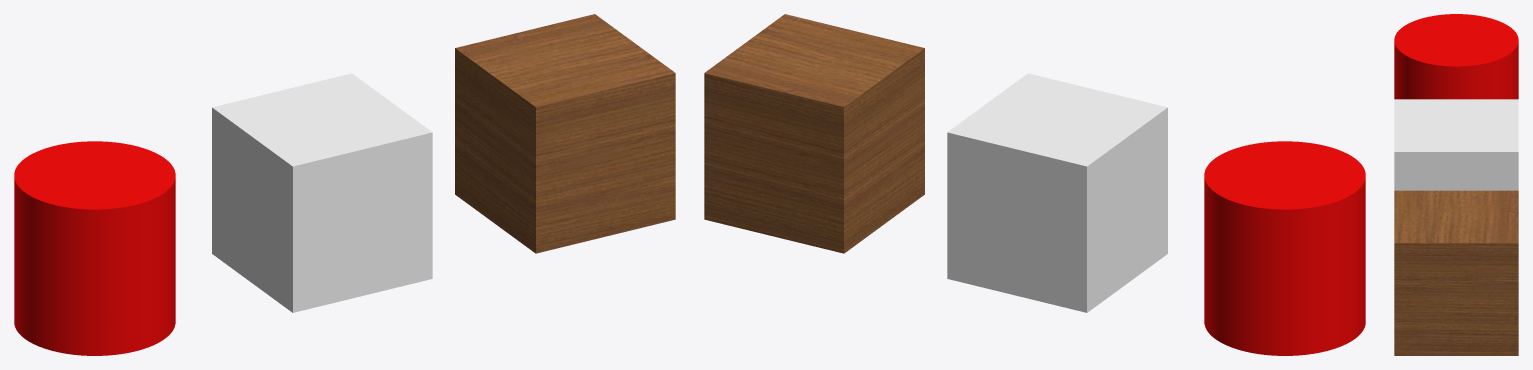
The model's file is asset.glb.
3 views of the same model, side by side, from view 1: azimuth 30°, elevation 25°; view 2: azimuth 150°, elevation 25°; view 3: azimuth 270°, elevation 25° (orthographic). The views are drawn at different scales.
Parts seen in each view (by area): view 1: object 2, Layer 02, Layer 01; view 2: object 2, Layer 02, Layer 01; view 3: Layer 02, object 2, Layer 01.
Boxes of the visible parts, bbox=[...] form: object 2: bbox=[212, 73, 432, 312]; Layer 02: bbox=[455, 14, 675, 253]; Layer 01: bbox=[14, 141, 175, 355]; object 2: bbox=[947, 73, 1167, 312]; Layer 02: bbox=[704, 14, 924, 253]; Layer 01: bbox=[1204, 141, 1365, 355]; Layer 02: bbox=[1394, 190, 1518, 355]; object 2: bbox=[1394, 99, 1518, 190]; Layer 01: bbox=[1394, 14, 1518, 99].
Bounding box in the file's own units: 1.31 × 0.3 × 0.3.
3 materials, 1 textured.
